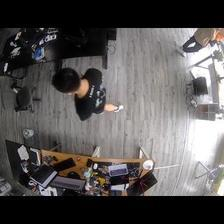normal: (51, 67, 124, 122)
